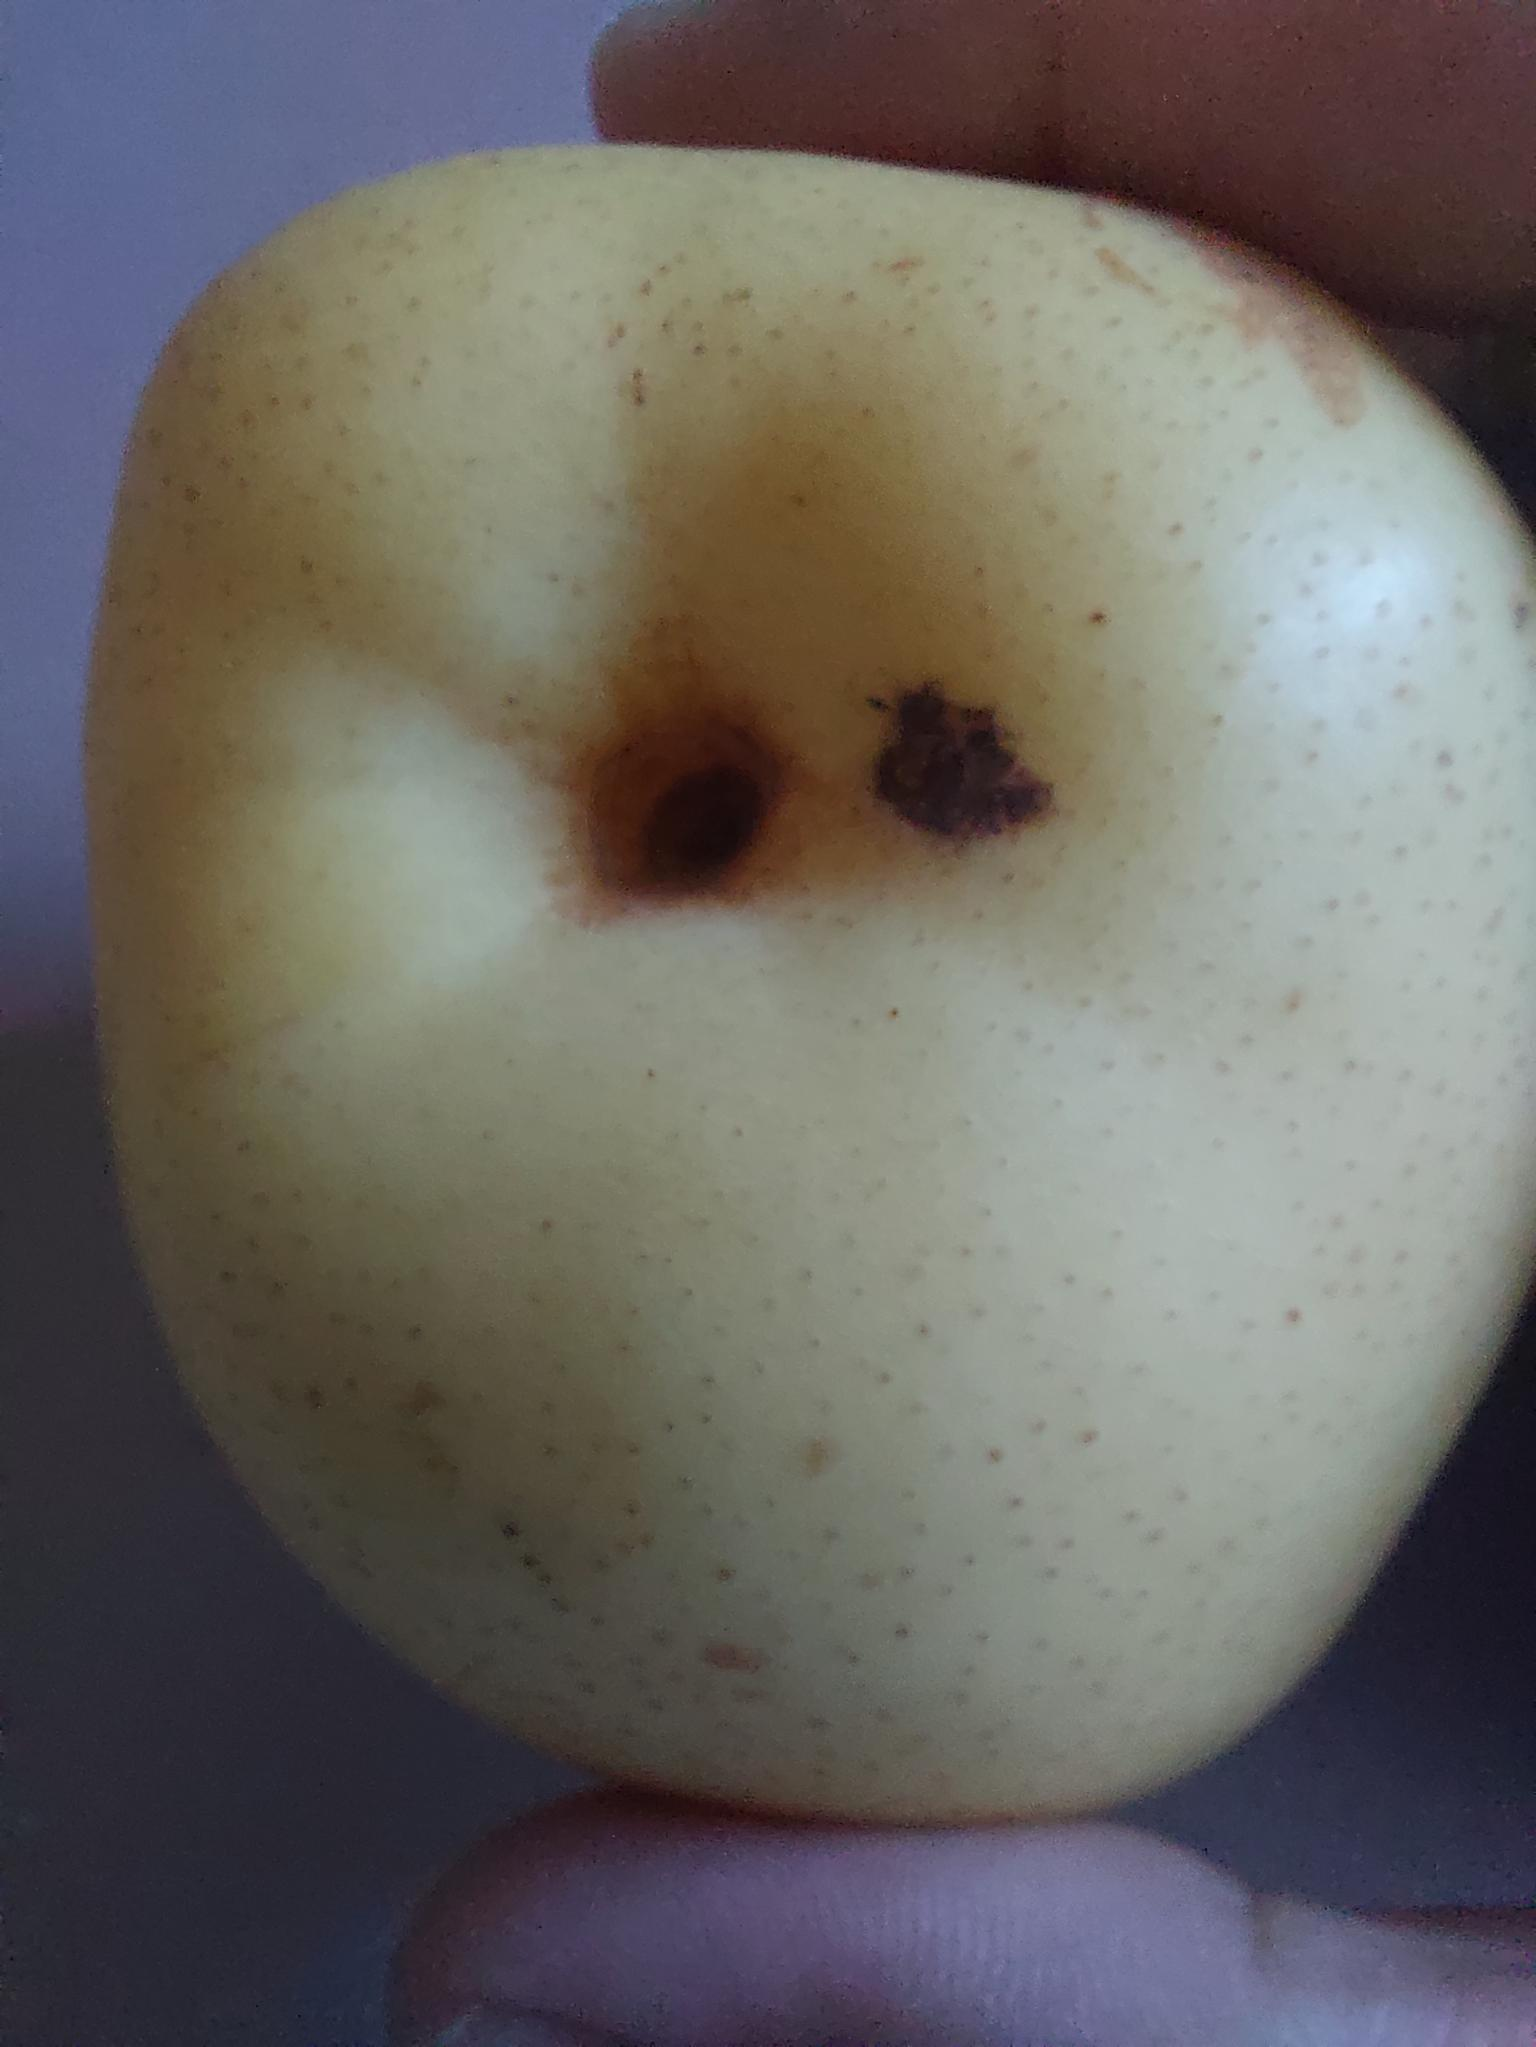Good Pear: (100, 124, 1536, 1845)
